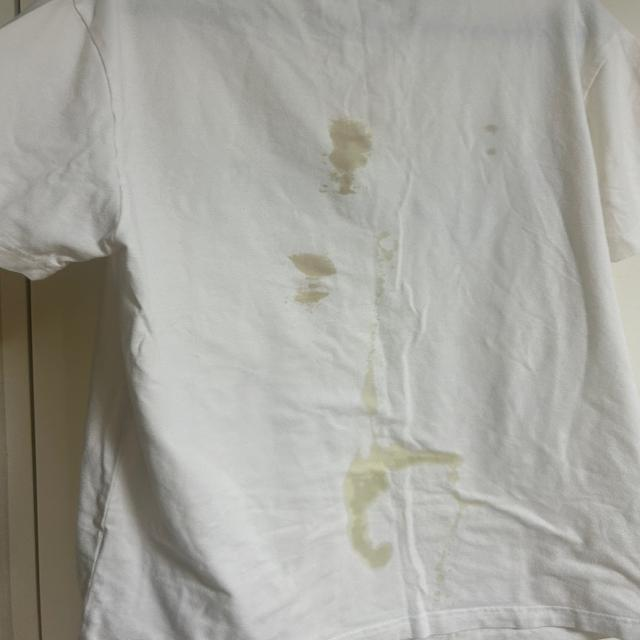stain: (332, 480, 412, 577), (314, 116, 392, 208), (346, 444, 464, 483), (277, 241, 340, 302), (470, 109, 518, 160), (352, 357, 390, 413), (361, 220, 406, 266)
